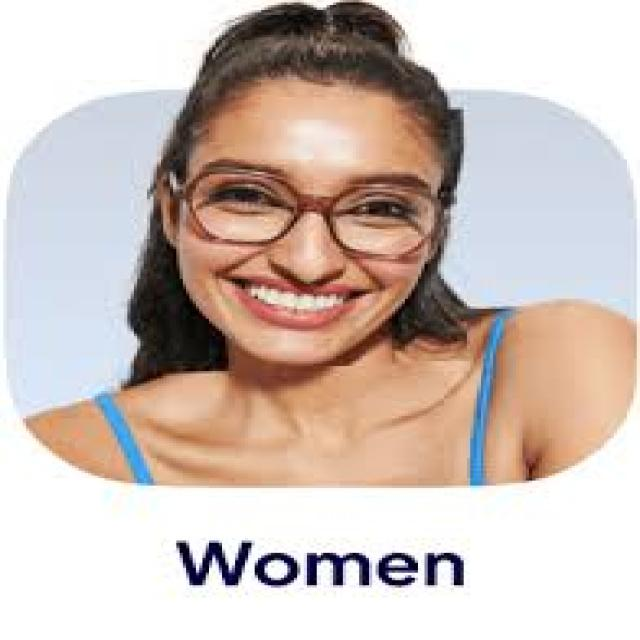specticles: (170, 160, 467, 272)
